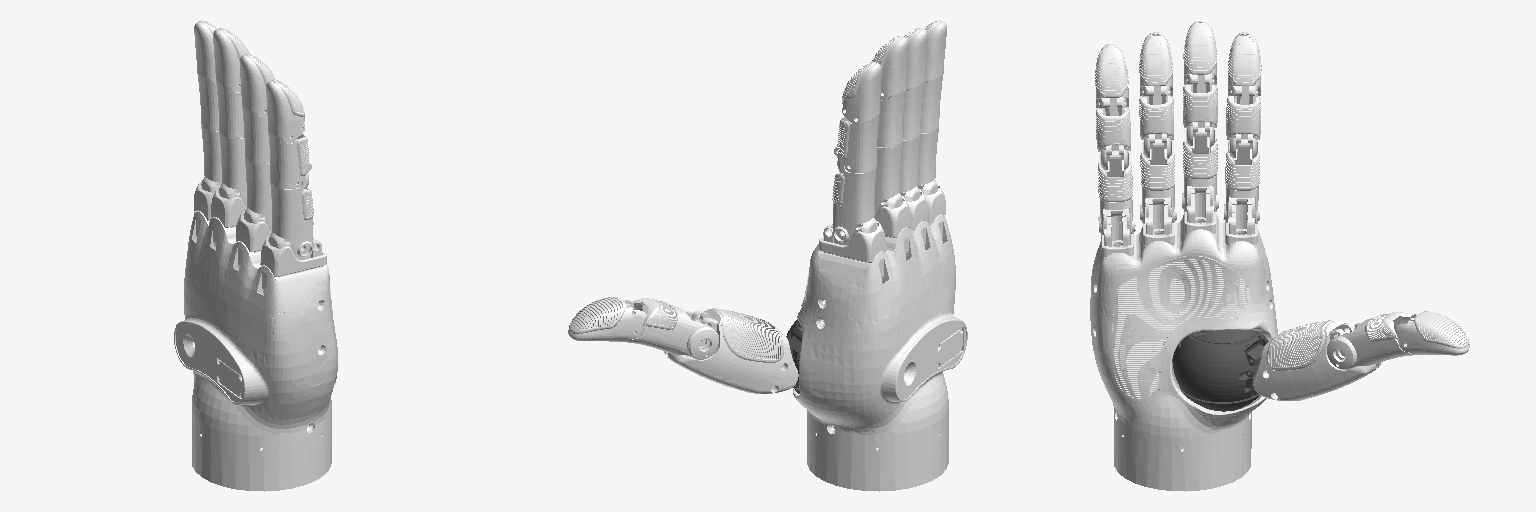
The robot description file, URDF, robot "linkerhand_o7t_right.urdf":
<?xml version="1.0" encoding="utf-8"?>
<!-- This URDF was automatically created by SolidWorks to URDF Exporter! Originally created by [author] ([email redacted]) 
     Commit Version: 1.6.0-4-g7f85cfe  Build Version: 1.6.7995.38578
     For more information, please see http://wiki.ros.org/sw_urdf_exporter -->
<robot
  name="linkerhand_o7t_right.urdf">
  <link
    name="hand_base_link">
    <inertial>
      <origin
        xyz="-0.00424649751371995 -0.000862887416275456 0.0748471792869467"
        rpy="0 0 0" />
      <mass
        value="0.224993676691102" />
      <inertia
        ixx="0.000307116186491815"
        ixy="2.61659725445651E-06"
        ixz="-6.32446998312666E-06"
        iyy="0.000204938622467429"
        iyz="-3.62127144044683E-06"
        izz="0.000138468169689365" />
    </inertial>
    <visual>
      <origin
        xyz="0 0 0"
        rpy="0 0 0" />
      <geometry>
        <mesh
          filename="meshes/hand_base_link.STL" />
      </geometry>
      <material
        name="">
        <color
          rgba="1 1 1 1" />
      </material>
    </visual>
    <collision>
      <origin
        xyz="0 0 0"
        rpy="0 0 0" />
      <geometry>
        <mesh
          filename="meshes/hand_base_link.STL" />
      </geometry>
    </collision>
  </link>
  <link
    name="thumb_metacarpals_base1">
    <inertial>
      <origin
        xyz="0.0221879177257061 9.4967413269316E-06 -0.00324810095386431"
        rpy="0 0 0" />
      <mass
        value="0.0115249134895388" />
      <inertia
        ixx="3.08667102562358E-06"
        ixy="-2.45862059608496E-09"
        ixz="3.13556912700589E-07"
        iyy="4.3709812224308E-06"
        iyz="-1.09530666159332E-09"
        izz="1.95667196495585E-06" />
    </inertial>
    <visual>
      <origin
        xyz="0 0 0"
        rpy="0 0 0" />
      <geometry>
        <mesh
          filename="meshes/thumb_metacarpals_base1.STL" />
      </geometry>
      <material
        name="">
        <color
          rgba="0.4 0.4 0.4 1" />
      </material>
    </visual>
    <collision>
      <origin
        xyz="0 0 0"
        rpy="0 0 0" />
      <geometry>
        <mesh
          filename="meshes/thumb_metacarpals_base1.STL" />
      </geometry>
    </collision>
  </link>
  <joint
    name="thumb_cmc_roll"
    type="revolute">
    <origin
      xyz="-0.016939 0.018427 0.057465"
      rpy="0 0 0" />
    <parent
      link="hand_base_link" />
    <child
      link="thumb_metacarpals_base1" />
    <axis
      xyz="1 0 0" />
    <limit
      lower="-0.785"
      upper="0.785"
      effort="100"
      velocity="1" />
  </joint>
  <link
    name="thumb_metacarpals_base2">
    <inertial>
      <origin
        xyz="0.000657101787937486 0.00104851154234433 -0.00113956081948991"
        rpy="0 0 0" />
      <mass
        value="0.01940166650745" />
      <inertia
        ixx="3.11012438785897E-06"
        ixy="-7.0034651782409E-07"
        ixz="-3.44895601987918E-08"
        iyy="2.43367257868183E-06"
        iyz="-5.59175765565545E-08"
        izz="2.77701874779203E-06" />
    </inertial>
    <visual>
      <origin
        xyz="0 0 0"
        rpy="0 0 0" />
      <geometry>
        <mesh
          filename="meshes/thumb_metacarpals_base2.STL" />
      </geometry>
      <material
        name="">
        <color
          rgba="0.4 0.4 0.4 1" />
      </material>
    </visual>
    <collision>
      <origin
        xyz="0 0 0"
        rpy="0 0 0" />
      <geometry>
        <mesh
          filename="meshes/thumb_metacarpals_base2.STL" />
      </geometry>
    </collision>
  </link>
  <joint
    name="thumb_cmc_yaw"
    type="revolute">
    <origin
      xyz="0.0293 0 0.0020117"
      rpy="0 0 0" />
    <parent
      link="thumb_metacarpals_base1" />
    <child
      link="thumb_metacarpals_base2" />
    <axis
      xyz="0 0 -1" />
    <limit
      lower="0"
      upper="1.57"
      effort="100"
      velocity="1" />
  </joint>
  <link
    name="thumb_metacarpals">
    <inertial>
      <origin
        xyz="0.00175933658915796 -5.96504126060375E-05 0.0251801046994234"
        rpy="0 0 0" />
      <mass
        value="0.0177521108657244" />
      <inertia
        ixx="2.97617104670385E-06"
        ixy="1.85044369912824E-10"
        ixz="8.88003468597959E-08"
        iyy="4.02115700293481E-06"
        iyz="4.92419253103346E-10"
        izz="1.61792154263255E-06" />
    </inertial>
    <visual>
      <origin
        xyz="0 0 0"
        rpy="0 0 0" />
      <geometry>
        <mesh
          filename="meshes/thumb_metacarpals.STL" />
      </geometry>
      <material
        name="">
        <color
          rgba="1 1 1 1" />
      </material>
    </visual>
    <collision>
      <origin
        xyz="0 0 0"
        rpy="0 0 0" />
      <geometry>
        <mesh
          filename="meshes/thumb_metacarpals.STL" />
      </geometry>
    </collision>
  </link>
  <joint
    name="thumb_cmc_pitch"
    type="revolute">
    <origin
      xyz="0.01535 0.024288 -0.0034929"
      rpy="0 -1.1075 -2.1313" />
    <parent
      link="thumb_metacarpals_base2" />
    <child
      link="thumb_metacarpals" />
    <axis
      xyz="0 1 0" />
    <limit
      lower="0"
      upper="0.5285"
      effort="100"
      velocity="1" />
  </joint>
  <link
    name="thumb_proximal">
    <inertial>
      <origin
        xyz="-0.000134526311852616 6.07660660935025E-06 0.0155657696459344"
        rpy="0 0 0" />
      <mass
        value="0.00522318738806682" />
      <inertia
        ixx="9.25274247600393E-07"
        ixy="-1.65401508753502E-11"
        ixz="1.11609876915452E-07"
        iyy="8.23287363248585E-07"
        iyz="5.43302131881219E-11"
        izz="4.09241239147395E-07" />
    </inertial>
    <visual>
      <origin
        xyz="0 0 0"
        rpy="0 0 0" />
      <geometry>
        <mesh
          filename="meshes/thumb_proximal.STL" />
      </geometry>
      <material
        name="">
        <color
          rgba="1 1 1 1" />
      </material>
    </visual>
    <collision>
      <origin
        xyz="0 0 0"
        rpy="0 0 0" />
      <geometry>
        <mesh
          filename="meshes/thumb_proximal.STL" />
      </geometry>
    </collision>
  </link>
  <joint
    name="thumb_mcp"
    type="revolute">
    <origin
      xyz="0.0049422 0 0.050268"
      rpy="0 0 0" />
    <parent
      link="thumb_metacarpals" />
    <child
      link="thumb_proximal" />
    <axis
      xyz="0 1 0" />
    <limit
      lower="0"
      upper="1.186"
      effort="100"
      velocity="1" />
    <mimic
      joint="thumb_cmc_pitch"
      multiplier="2.24"
      offset="0" />
  </joint>
  <link
    name="thumb_distal">
    <inertial>
      <origin
        xyz="-0.00128308035650056 -8.24642944257173E-06 0.0121298668147546"
        rpy="0 0 0" />
      <mass
        value="0.00599292590405824" />
      <inertia
        ixx="3.54987794133438E-07"
        ixy="-2.17906247389587E-10"
        ixz="1.02717341851269E-07"
        iyy="3.68409426963011E-07"
        iyz="-7.13047316865665E-11"
        izz="2.80231280919996E-07" />
    </inertial>
    <visual>
      <origin
        xyz="0 0 0"
        rpy="0 0 0" />
      <geometry>
        <mesh
          filename="meshes/thumb_distal.STL" />
      </geometry>
      <material
        name="">
        <color
          rgba="1 1 1 1" />
      </material>
    </visual>
    <collision>
      <origin
        xyz="0 0 0"
        rpy="0 0 0" />
      <geometry>
        <mesh
          filename="meshes/thumb_distal.STL" />
      </geometry>
    </collision>
  </link>
  <joint
    name="thumb_ip"
    type="revolute">
    <origin
      xyz="-0.0040391 0 0.036444"
      rpy="0 0 0" />
    <parent
      link="thumb_proximal" />
    <child
      link="thumb_distal" />
    <axis
      xyz="0 1 0" />
    <limit
      lower="0"
      upper="1.256"
      effort="100"
      velocity="1" />
    <mimic
      joint="thumb_cmc_pitch"
      multiplier="2.38"
      offset="0" />
  </joint>
  <link
    name="index_proximal">
    <inertial>
      <origin
        xyz="-0.0032518064346344 5.73435595726795E-05 0.0195194781444541"
        rpy="0 0 0" />
      <mass
        value="0.00304916039909536" />
      <inertia
        ixx="2.70564868706054E-07"
        ixy="-4.09152820952322E-10"
        ixz="3.98597505804528E-08"
        iyy="2.61418458298347E-07"
        iyz="-1.28012336147491E-09"
        izz="1.4321431670118E-07" />
    </inertial>
    <visual>
      <origin
        xyz="0 0 0"
        rpy="0 0 0" />
      <geometry>
        <mesh
          filename="meshes/index_proximal.STL" />
      </geometry>
      <material
        name="">
        <color
          rgba="1 1 1 1" />
      </material>
    </visual>
    <collision>
      <origin
        xyz="0 0 0"
        rpy="0 0 0" />
      <geometry>
        <mesh
          filename="meshes/index_proximal.STL" />
      </geometry>
    </collision>
  </link>
  <joint
    name="index_mcp_pitch"
    type="revolute">
    <origin
      xyz="-0.0010899 0.027484 0.1273"
      rpy="-0.017453 0 0" />
    <parent
      link="hand_base_link" />
    <child
      link="index_proximal" />
    <axis
      xyz="0 1 0" />
    <limit
      lower="0"
      upper="1.325"
      effort="100"
      velocity="1" />
  </joint>
  <link
    name="index_middle">
    <inertial>
      <origin
        xyz="-0.00220167909176389 -0.000343531073618132 0.0115244069143184"
        rpy="0 0 0" />
      <mass
        value="0.00325825848442436" />
      <inertia
        ixx="2.8490415059528E-07"
        ixy="1.91239904551334E-09"
        ixz="4.46237082998526E-08"
        iyy="2.60287200116906E-07"
        iyz="-4.72652523980715E-09"
        izz="1.33239580887688E-07" />
    </inertial>
    <visual>
      <origin
        xyz="0 0 0"
        rpy="0 0 0" />
      <geometry>
        <mesh
          filename="meshes/index_middle.STL" />
      </geometry>
      <material
        name="">
        <color
          rgba="1 1 1 1" />
      </material>
    </visual>
    <collision>
      <origin
        xyz="0 0 0"
        rpy="0 0 0" />
      <geometry>
        <mesh
          filename="meshes/index_middle.STL" />
      </geometry>
    </collision>
  </link>
  <joint
    name="index_pip"
    type="revolute">
    <origin
      xyz="-0.0033727 0 0.03351"
      rpy="0 0 0" />
    <parent
      link="index_proximal" />
    <child
      link="index_middle" />
    <axis
      xyz="0 1 0" />
    <limit
      lower="0"
      upper="1.57"
      effort="100"
      velocity="1" />
    <mimic
      joint="index_mcp_pitch"
      multiplier="1.18"
      offset="0" />
  </joint>
  <link
    name="index_distal">
    <inertial>
      <origin
        xyz="0.000205003552135347 -5.00639376030902E-05 0.0116644517439974"
        rpy="0 0 0" />
      <mass
        value="0.00386935492598895" />
      <inertia
        ixx="2.13117220171242E-07"
        ixy="4.48302439305257E-10"
        ixz="4.32406381764883E-08"
        iyy="2.07111508255759E-07"
        iyz="-3.01875998154566E-09"
        izz="1.20303603749287E-07" />
    </inertial>
    <visual>
      <origin
        xyz="0 0 0"
        rpy="0 0 0" />
      <geometry>
        <mesh
          filename="meshes/index_distal.STL" />
      </geometry>
      <material
        name="">
        <color
          rgba="1 1 1 1" />
      </material>
    </visual>
    <collision>
      <origin
        xyz="0 0 0"
        rpy="0 0 0" />
      <geometry>
        <mesh
          filename="meshes/index_distal.STL" />
      </geometry>
    </collision>
  </link>
  <joint
    name="index_dip"
    type="revolute">
    <origin
      xyz="-0.0050438 0 0.025752"
      rpy="0 0 0" />
    <parent
      link="index_middle" />
    <child
      link="index_distal" />
    <axis
      xyz="0 1 0" />
    <limit
      lower="0"
      upper="1"
      effort="100"
      velocity="1" />
    <mimic
      joint="index_mcp_pitch"
      multiplier="0.7493"
      offset="0" />
  </joint>
  <link
    name="middle_proximal">
    <inertial>
      <origin
        xyz="-0.00325183237058274 5.73145378753642E-05 0.0195196141000392"
        rpy="0 0 0" />
      <mass
        value="0.00304913798747595" />
      <inertia
        ixx="2.70557098970273E-07"
        ixy="-4.08865696672332E-10"
        ixz="3.98586221422375E-08"
        iyy="2.61411279054861E-07"
        iyz="-1.28207051883436E-09"
        izz="1.43213885368697E-07" />
    </inertial>
    <visual>
      <origin
        xyz="0 0 0"
        rpy="0 0 0" />
      <geometry>
        <mesh
          filename="meshes/middle_proximal.STL" />
      </geometry>
      <material
        name="">
        <color
          rgba="1 1 1 1" />
      </material>
    </visual>
    <collision>
      <origin
        xyz="0 0 0"
        rpy="0 0 0" />
      <geometry>
        <mesh
          filename="meshes/middle_proximal.STL" />
      </geometry>
    </collision>
  </link>
  <joint
    name="middle_mcp_pitch"
    type="revolute">
    <origin
      xyz="-0.0030759 0.0081771 0.1323"
      rpy="0 0 0" />
    <parent
      link="hand_base_link" />
    <child
      link="middle_proximal" />
    <axis
      xyz="0 1 0" />
    <limit
      lower="0"
      upper="1.325"
      effort="100"
      velocity="1" />
  </joint>
  <link
    name="middle_middle">
    <inertial>
      <origin
        xyz="-0.0022016810859708 -0.00034353700371422 0.0115244012272034"
        rpy="0 0 0" />
      <mass
        value="0.00325825654598412" />
      <inertia
        ixx="2.84904020576023E-07"
        ixy="1.91233621961464E-09"
        ixz="4.46236745273724E-08"
        iyy="2.60287132912749E-07"
        iyz="-4.72641985986877E-09"
        izz="1.33239489502427E-07" />
    </inertial>
    <visual>
      <origin
        xyz="0 0 0"
        rpy="0 0 0" />
      <geometry>
        <mesh
          filename="meshes/middle_middle.STL" />
      </geometry>
      <material
        name="">
        <color
          rgba="1 1 1 1" />
      </material>
    </visual>
    <collision>
      <origin
        xyz="0 0 0"
        rpy="0 0 0" />
      <geometry>
        <mesh
          filename="meshes/middle_middle.STL" />
      </geometry>
    </collision>
  </link>
  <joint
    name="middle_pip"
    type="revolute">
    <origin
      xyz="-0.0033727 0 0.03351"
      rpy="0 0 0" />
    <parent
      link="middle_proximal" />
    <child
      link="middle_middle" />
    <axis
      xyz="0 1 0" />
    <limit
      lower="0"
      upper="1.57"
      effort="100"
      velocity="1" />
    <mimic
      joint="middle_mcp_pitch"
      multiplier="1.18"
      offset="0" />
  </joint>
  <link
    name="middle_distal">
    <inertial>
      <origin
        xyz="0.000205019804226589 -5.00611866558441E-05 0.0116644192481372"
        rpy="0 0 0" />
      <mass
        value="0.00386934334877093" />
      <inertia
        ixx="2.13115752186946E-07"
        ixy="4.483082159401E-10"
        ixz="4.32401705352848E-08"
        iyy="2.07109947925868E-07"
        iyz="-3.01874595073253E-09"
        izz="1.20303477712343E-07" />
    </inertial>
    <visual>
      <origin
        xyz="0 0 0"
        rpy="0 0 0" />
      <geometry>
        <mesh
          filename="meshes/middle_distal.STL" />
      </geometry>
      <material
        name="">
        <color
          rgba="1 1 1 1" />
      </material>
    </visual>
    <collision>
      <origin
        xyz="0 0 0"
        rpy="0 0 0" />
      <geometry>
        <mesh
          filename="meshes/middle_distal.STL" />
      </geometry>
    </collision>
  </link>
  <joint
    name="middle_dip"
    type="revolute">
    <origin
      xyz="-0.0050438 0 0.025752"
      rpy="0 0 0" />
    <parent
      link="middle_middle" />
    <child
      link="middle_distal" />
    <axis
      xyz="0 1 0" />
    <limit
      lower="0"
      upper="1"
      effort="100"
      velocity="1" />
    <mimic
      joint="middle_mcp_pitch"
      multiplier="1.18"
      offset="0" />
  </joint>
  <link
    name="ring_proximal">
    <inertial>
      <origin
        xyz="-0.00325186150336549 5.72819703951039E-05 0.0195197725001552"
        rpy="0 0 0" />
      <mass
        value="0.00304911330763648" />
      <inertia
        ixx="2.70548036735914E-07"
        ixy="-4.0855911209404E-10"
        ixz="3.98573112742051E-08"
        iyy="2.61402871079389E-07"
        iyz="-1.28432896400596E-09"
        izz="1.43213406344549E-07" />
    </inertial>
    <visual>
      <origin
        xyz="0 0 0"
        rpy="0 0 0" />
      <geometry>
        <mesh
          filename="meshes/ring_proximal.STL" />
      </geometry>
      <material
        name="">
        <color
          rgba="1 1 1 1" />
      </material>
    </visual>
    <collision>
      <origin
        xyz="0 0 0"
        rpy="0 0 0" />
      <geometry>
        <mesh
          filename="meshes/ring_proximal.STL" />
      </geometry>
    </collision>
  </link>
  <joint
    name="ring_mcp_pitch"
    type="revolute">
    <origin
      xyz="-0.0010899 -0.01113 0.1273"
      rpy="0.017453 0 0" />
    <parent
      link="hand_base_link" />
    <child
      link="ring_proximal" />
    <axis
      xyz="0 1 0" />
    <limit
      lower="0"
      upper="1.325"
      effort="100"
      velocity="1" />
  </joint>
  <link
    name="ring_mcp_pitch">
    <inertial>
      <origin
        xyz="-0.00220167993906391 -0.000343532631468264 0.011524404583006"
        rpy="0 0 0" />
      <mass
        value="0.00325825753654453" />
      <inertia
        ixx="2.84904089242319E-07"
        ixy="1.91238364678801E-09"
        ixz="4.46236943743486E-08"
        iyy="2.60287163833731E-07"
        iyz="-4.72650146753522E-09"
        izz="1.3323953829297E-07" />
    </inertial>
    <visual>
      <origin
        xyz="0 0 0"
        rpy="0 0 0" />
      <geometry>
        <mesh
          filename="meshes/ring_mcp_pitch.STL" />
      </geometry>
      <material
        name="">
        <color
          rgba="1 1 1 1" />
      </material>
    </visual>
    <collision>
      <origin
        xyz="0 0 0"
        rpy="0 0 0" />
      <geometry>
        <mesh
          filename="meshes/ring_mcp_pitch.STL" />
      </geometry>
    </collision>
  </link>
  <joint
    name="ring_pip"
    type="revolute">
    <origin
      xyz="-0.0033727 0 0.03351"
      rpy="0 0 0" />
    <parent
      link="ring_proximal" />
    <child
      link="ring_mcp_pitch" />
    <axis
      xyz="0 1 0" />
    <limit
      lower="0"
      upper="1.57"
      effort="100"
      velocity="1" />
    <mimic
      joint="ring_mcp_pitch"
      multiplier="1.18"
      offset="0" />
  </joint>
  <link
    name="ring_distal">
    <inertial>
      <origin
        xyz="0.00020502111953178 -5.00522555418534E-05 0.0116644140374793"
        rpy="0 0 0" />
      <mass
        value="0.00386934281745255" />
      <inertia
        ixx="2.13115701445735E-07"
        ixy="4.48456879916902E-10"
        ixz="4.32401093546838E-08"
        iyy="2.0710990229611E-07"
        iyz="-3.01905597511279E-09"
        izz="1.20303442468631E-07" />
    </inertial>
    <visual>
      <origin
        xyz="0 0 0"
        rpy="0 0 0" />
      <geometry>
        <mesh
          filename="meshes/ring_distal.STL" />
      </geometry>
      <material
        name="">
        <color
          rgba="1 1 1 1" />
      </material>
    </visual>
    <collision>
      <origin
        xyz="0 0 0"
        rpy="0 0 0" />
      <geometry>
        <mesh
          filename="meshes/ring_distal.STL" />
      </geometry>
    </collision>
  </link>
  <joint
    name="ring_dip"
    type="revolute">
    <origin
      xyz="-0.0050438 0 0.025752"
      rpy="0 0 0" />
    <parent
      link="ring_mcp_pitch" />
    <child
      link="ring_distal" />
    <axis
      xyz="0 1 0" />
    <limit
      lower="0"
      upper="1"
      effort="100"
      velocity="1" />
    <mimic
      joint="ring_mcp_pitch"
      multiplier="0.7493"
      offset="0" />
  </joint>
  <link
    name="pinky_proximal">
    <inertial>
      <origin
        xyz="-0.00325186921802022 5.72691083807614E-05 0.0195198130359342"
        rpy="0 0 0" />
      <mass
        value="0.00304910473315458" />
      <inertia
        ixx="2.70545040885575E-07"
        ixy="-4.08564381291383E-10"
        ixz="3.98567341619965E-08"
        iyy="2.61399944340109E-07"
        iyz="-1.28504081306415E-09"
        izz="1.4321321936584E-07" />
    </inertial>
    <visual>
      <origin
        xyz="0 0 0"
        rpy="0 0 0" />
      <geometry>
        <mesh
          filename="meshes/pinky_proximal.STL" />
      </geometry>
      <material
        name="">
        <color
          rgba="1 1 1 1" />
      </material>
    </visual>
    <collision>
      <origin
        xyz="0 0 0"
        rpy="0 0 0" />
      <geometry>
        <mesh
          filename="meshes/pinky_proximal.STL" />
      </geometry>
    </collision>
  </link>
  <joint
    name="pinky_mcp_pitch"
    type="revolute">
    <origin
      xyz="0.00091015 -0.030436 0.12229"
      rpy="0.034907 0 0" />
    <parent
      link="hand_base_link" />
    <child
      link="pinky_proximal" />
    <axis
      xyz="0 1 0" />
    <limit
      lower="0"
      upper="1.325"
      effort="100"
      velocity="1" />
  </joint>
  <link
    name="pinky_middle">
    <inertial>
      <origin
        xyz="-0.00220167997180173 -0.000343532680715256 0.0115244045011695"
        rpy="0 0 0" />
      <mass
        value="0.00325825750127338" />
      <inertia
        ixx="2.84904087000571E-07"
        ixy="1.91238317094318E-09"
        ixz="4.46236937859625E-08"
        iyy="2.6028716260635E-07"
        iyz="-4.72650084572289E-09"
        izz="1.33239536763419E-07" />
    </inertial>
    <visual>
      <origin
        xyz="0 0 0"
        rpy="0 0 0" />
      <geometry>
        <mesh
          filename="meshes/pinky_middle.STL" />
      </geometry>
      <material
        name="">
        <color
          rgba="1 1 1 1" />
      </material>
    </visual>
    <collision>
      <origin
        xyz="0 0 0"
        rpy="0 0 0" />
      <geometry>
        <mesh
          filename="meshes/pinky_middle.STL" />
      </geometry>
    </collision>
  </link>
  <joint
    name="pinky_pip"
    type="revolute">
    <origin
      xyz="-0.0033727 0 0.03351"
      rpy="0 0 0" />
    <parent
      link="pinky_proximal" />
    <child
      link="pinky_middle" />
    <axis
      xyz="0 1 0" />
    <limit
      lower="0"
      upper="1.57"
      effort="100"
      velocity="1" />
    <mimic
      joint="pinky_mcp_pitch"
      multiplier="1.18"
      offset="0" />
  </joint>
  <link
    name="pinky_distal">
    <inertial>
      <origin
        xyz="0.000205019995453311 -5.00474199050527E-05 0.0116644190987234"
        rpy="0 0 0" />
      <mass
        value="0.003869344054523" />
      <inertia
        ixx="2.13115672247707E-07"
        ixy="4.48523985073532E-10"
        ixz="4.32401598937007E-08"
        iyy="2.07109969850292E-07"
        iyz="-3.01932182317644E-09"
        izz="1.20303468559217E-07" />
    </inertial>
    <visual>
      <origin
        xyz="0 0 0"
        rpy="0 0 0" />
      <geometry>
        <mesh
          filename="meshes/pinky_distal.STL" />
      </geometry>
      <material
        name="">
        <color
          rgba="1 1 1 1" />
      </material>
    </visual>
    <collision>
      <origin
        xyz="0 0 0"
        rpy="0 0 0" />
      <geometry>
        <mesh
          filename="meshes/pinky_distal.STL" />
      </geometry>
    </collision>
  </link>
  <joint
    name="pinky_dip"
    type="revolute">
    <origin
      xyz="-0.0050438 0 0.025752"
      rpy="0 0 0" />
    <parent
      link="pinky_middle" />
    <child
      link="pinky_distal" />
    <axis
      xyz="0 1 0" />
    <limit
      lower="0"
      upper="1"
      effort="100"
      velocity="1" />
    <mimic
      joint="pinky_mcp_pitch"
      multiplier="0.7493"
      offset="0" />
  </joint>
</robot>

--- Facts derived from the render (not from the file) ---
Views: 3 orthographic renders of the robot side by side, from view 1: azimuth 30°, elevation 25°; view 2: azimuth 150°, elevation 25°; view 3: azimuth 270°, elevation 25°.
Robot: linkerhand_o7t_right.urdf — 18 links, 17 joints (17 revolute); root link hand_base_link; default pose: all joints at 0.
Visible links, largest first — view 1: hand_base_link, pinky_proximal, pinky_middle, pinky_distal, middle_distal, ring_distal, middle_proximal, ring_proximal, ring_mcp_pitch, middle_middle, index_distal, index_middle (+1 smaller); view 2: hand_base_link, thumb_metacarpals, thumb_proximal, thumb_distal, index_proximal, index_middle, index_distal, middle_distal, middle_proximal, middle_middle, ring_distal, pinky_distal (+4 smaller); view 3: hand_base_link, thumb_metacarpals, thumb_metacarpals_base2, thumb_proximal, thumb_distal, middle_proximal, pinky_proximal, ring_proximal, index_proximal, ring_distal, index_distal, index_middle (+6 smaller).
Boxes of the visible links, <box> form: hand_base_link: <box>174,177,337,491</box>; pinky_proximal: <box>270,182,313,258</box>; pinky_middle: <box>268,131,311,188</box>; pinky_distal: <box>266,79,304,143</box>; middle_distal: <box>213,28,249,91</box>; ring_distal: <box>240,54,275,117</box>; middle_proximal: <box>219,132,246,206</box>; ring_proximal: <box>245,158,271,231</box>; ring_mcp_pitch: <box>242,106,269,163</box>; middle_middle: <box>216,81,243,138</box>; index_distal: <box>194,20,216,83</box>; index_middle: <box>197,73,218,131</box>; hand_base_link: <box>793,179,967,491</box>; thumb_metacarpals: <box>664,308,798,393</box>; thumb_proximal: <box>627,298,718,359</box>; thumb_distal: <box>568,297,646,341</box>; index_proximal: <box>832,167,876,244</box>; index_middle: <box>834,114,879,172</box>; index_distal: <box>842,62,881,126</box>; middle_distal: <box>872,36,908,100</box>; middle_proximal: <box>874,141,902,216</box>; middle_middle: <box>877,89,905,147</box>; ring_distal: <box>904,28,927,91</box>; pinky_distal: <box>924,20,946,84</box>; hand_base_link: <box>1090,186,1277,491</box>; thumb_metacarpals: <box>1253,320,1381,400</box>; thumb_metacarpals_base2: <box>1173,331,1267,401</box>; thumb_proximal: <box>1327,312,1412,369</box>; thumb_distal: <box>1395,311,1469,355</box>; middle_proximal: <box>1182,127,1218,211</box>; pinky_proximal: <box>1098,145,1135,234</box>; ring_proximal: <box>1140,133,1176,223</box>; index_proximal: <box>1223,139,1259,223</box>; ring_distal: <box>1139,32,1172,96</box>; index_distal: <box>1228,32,1261,96</box>; index_middle: <box>1226,86,1260,158</box>.
Size in the robot's own frame: 0.119 by 0.176 by 0.218 metres.
Meshes: 18 distinct files referenced, 18 mesh visuals loaded (18 binary STL).